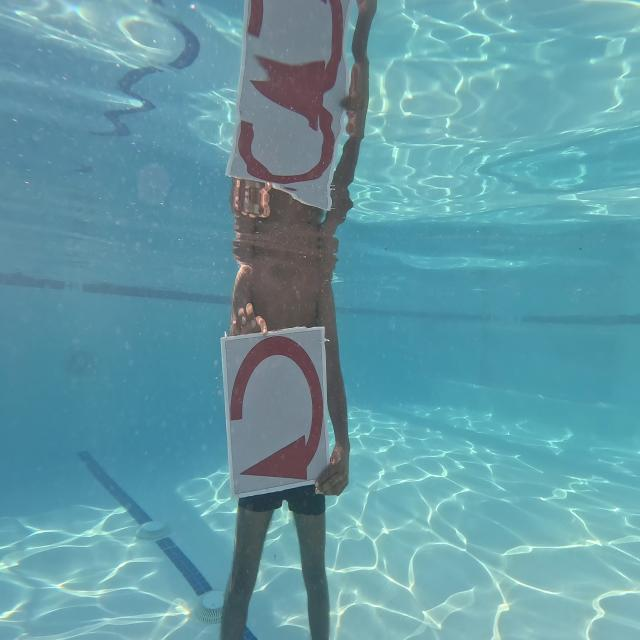red_side: (226, 330, 330, 497)
